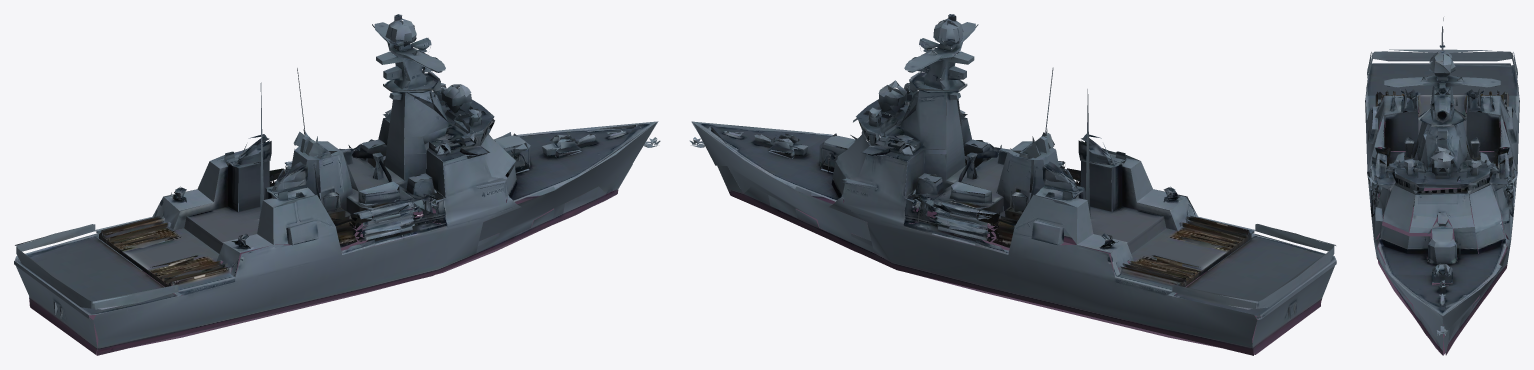
The model's file is corsair_LOD2.glb.
The picture shows the model from 3 angles, left to right: view 1: azimuth 30°, elevation 25°; view 2: azimuth 150°, elevation 25°; view 3: azimuth 270°, elevation 25°; orthographic projection. The views are drawn at different scales.
Visible parts, largest first — view 1: corsair_LOD2; view 2: corsair_LOD2; view 3: corsair_LOD2.
Boxes of the visible parts, left/top/right/bottom form: corsair_LOD2: left=14, top=14, right=660, bottom=355; corsair_LOD2: left=689, top=14, right=1336, bottom=355; corsair_LOD2: left=1365, top=17, right=1519, bottom=355.
Bounding box in the file's own units: 1 × 0.3686 × 0.2422.
Materials: 1 (1 with a texture image).
